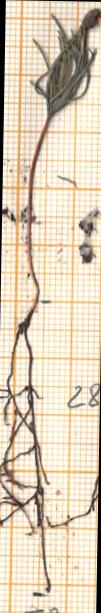flower: (34, 9, 100, 116)
root: (0, 289, 50, 592)
stem: (27, 117, 48, 300)
